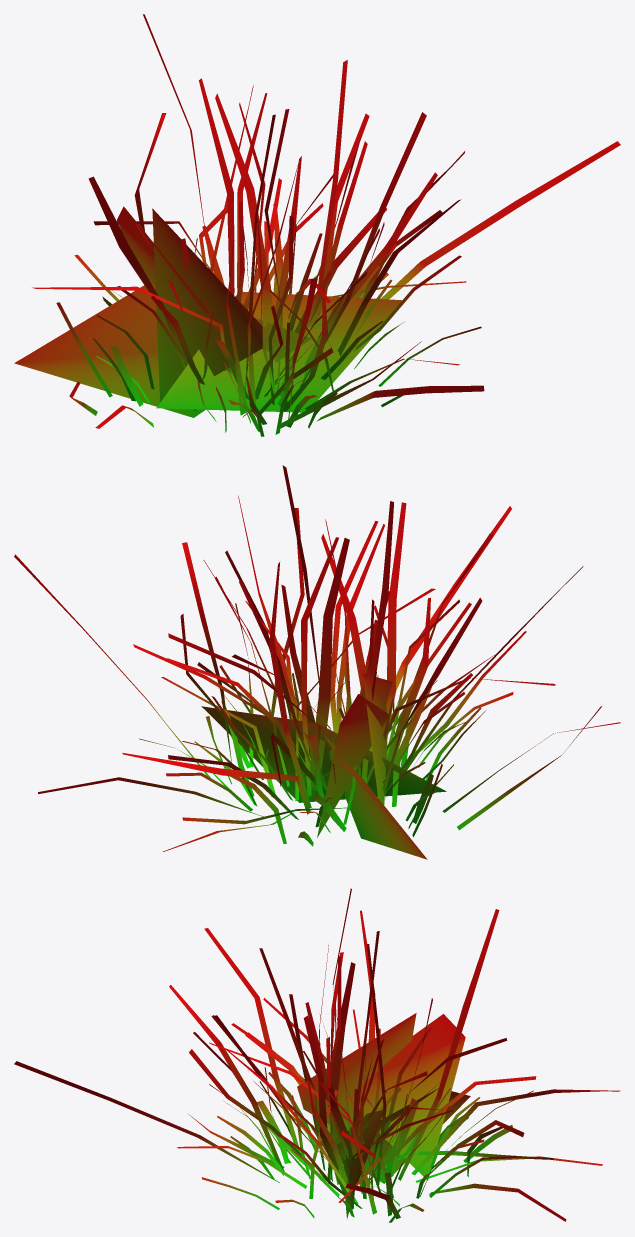
Rendered from Tundra Grass_LOD3_Var1_wk2oaeyqx.fbx.
3 renders of one model, top to bottom at view 1: azimuth 30°, elevation 25°; view 2: azimuth 150°, elevation 25°; view 3: azimuth 270°, elevation 25°, orthographic. The views are drawn at different scales.
Parts seen in each view (by area): view 1: _47br_Var1_LOD3; view 2: _47br_Var1_LOD3; view 3: _47br_Var1_LOD3.
Part boxes in pixels (left/top/right/bottom): _47br_Var1_LOD3: left=14, top=14, right=620, bottom=436; _47br_Var1_LOD3: left=14, top=465, right=620, bottom=859; _47br_Var1_LOD3: left=14, top=888, right=620, bottom=1222.
Size of the model in its own units: 37.25 by 21.39 by 40.54.
